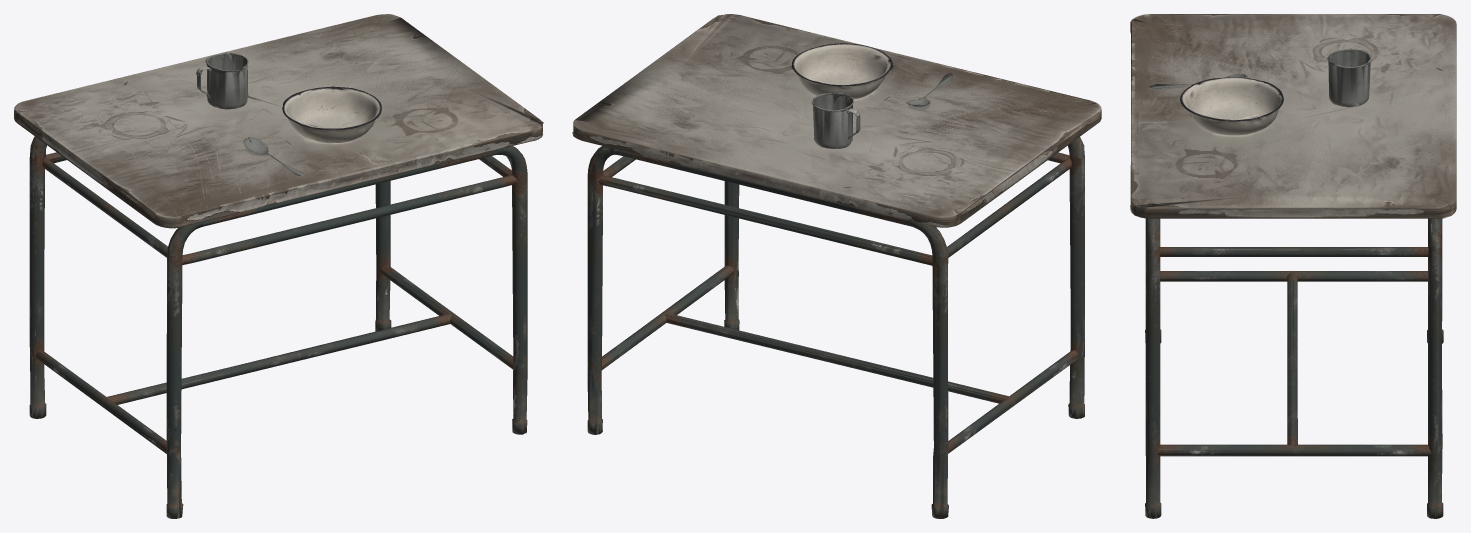
File: silo81_table.glb
3 views of the same model, side by side, from view 1: azimuth 30°, elevation 25°; view 2: azimuth 150°, elevation 25°; view 3: azimuth 270°, elevation 25° (orthographic). The views are drawn at different scales.
Bounding box in the file's own units: 0.9492 × 0.8179 × 0.6743.
Materials: 1 (1 with a texture image).
